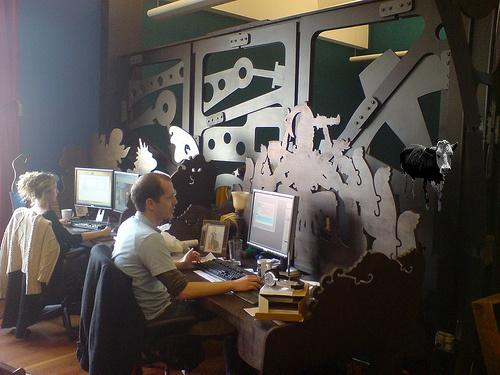tampered: (401, 141, 458, 211)
